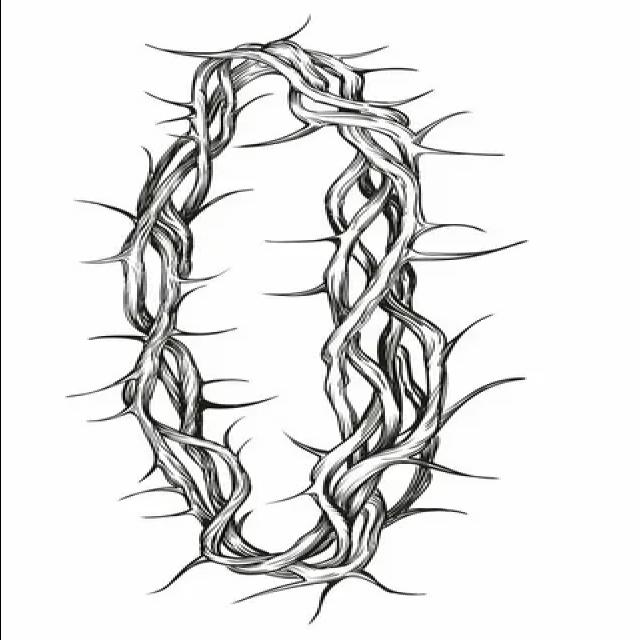crown: (78, 31, 466, 616)
